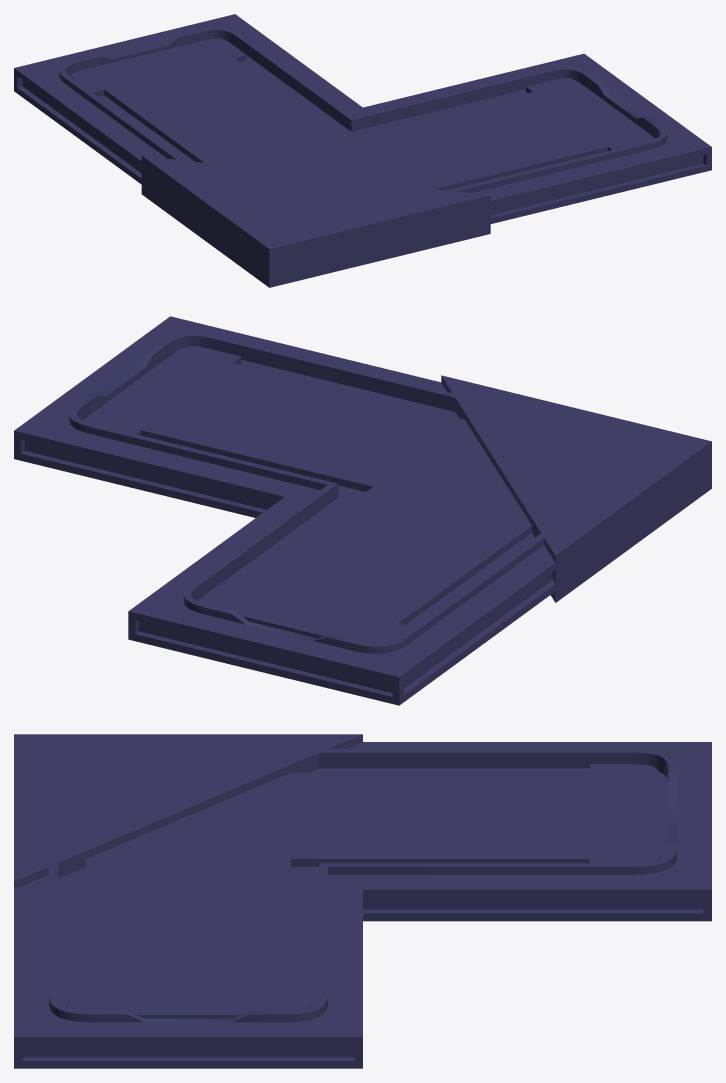
File: Bridge_A_2x2m_TurnIn.FBX
The picture shows the model from 3 angles, top to bottom: view 1: azimuth 30°, elevation 25°; view 2: azimuth 150°, elevation 25°; view 3: azimuth 270°, elevation 25°; orthographic projection. The views are drawn at different scales.
Visible parts, largest first — view 1: Bridge_A_2x2m_TurnIn; view 2: Bridge_A_2x2m_TurnIn; view 3: Bridge_A_2x2m_TurnIn.
Boxes of the visible parts, x1,y1,x2,y2 form: Bridge_A_2x2m_TurnIn: (14,14,711,287); Bridge_A_2x2m_TurnIn: (14,316,711,705); Bridge_A_2x2m_TurnIn: (14,734,711,1068).
Size of the model in its own units: 400 by 33.37 by 400.
